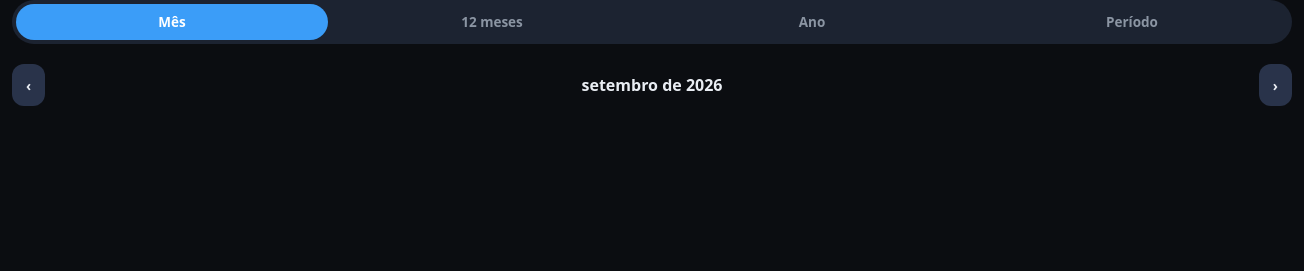
Test: SeletorPeriodo › modo Período: de/até fora da barra fixa, nota de tamanho, e a barra desliza a janela
Click the radio button labelled "Período" at (1132, 22), box top-left (976, 4), bottom-right (1288, 40)
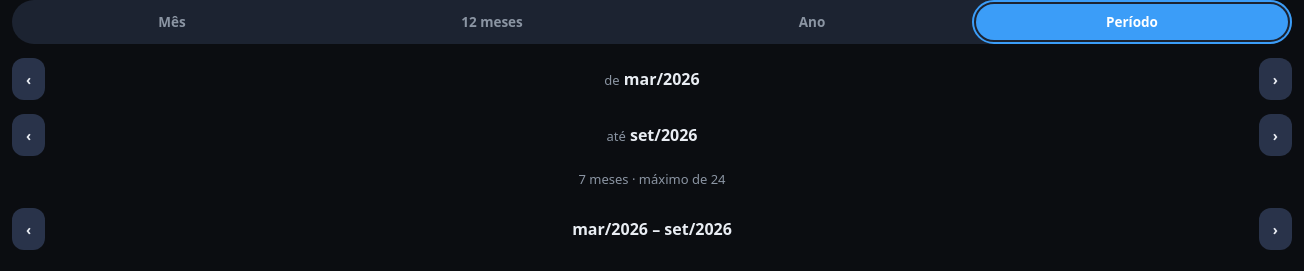
Now the text "7 meses · máximo de 24" is shown, box top-left (578, 170), bottom-right (726, 188)
Now the text "mar/2026 – set/2026" is shown, box top-left (572, 218), bottom-right (732, 240)
Click the button named "Período anterior" at (29, 229), box top-left (12, 208), bottom-right (45, 250)
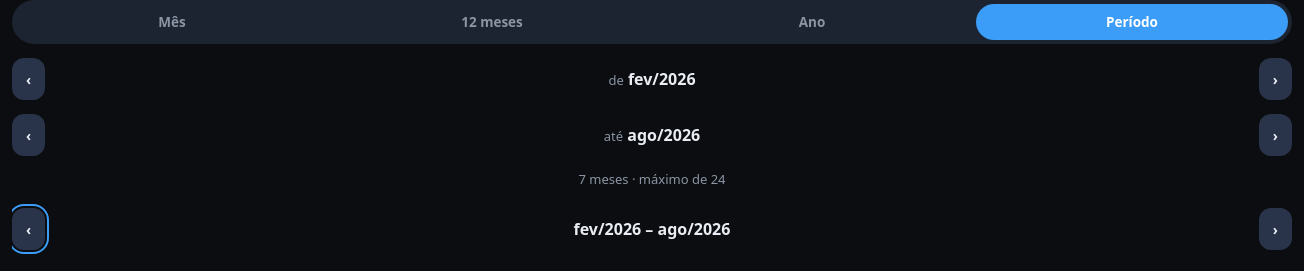
Now the text "7 meses · máximo de 24" is shown, box top-left (578, 170), bottom-right (726, 188)
Now the text "fev/2026 – ago/2026" is shown, box top-left (574, 218), bottom-right (730, 240)
